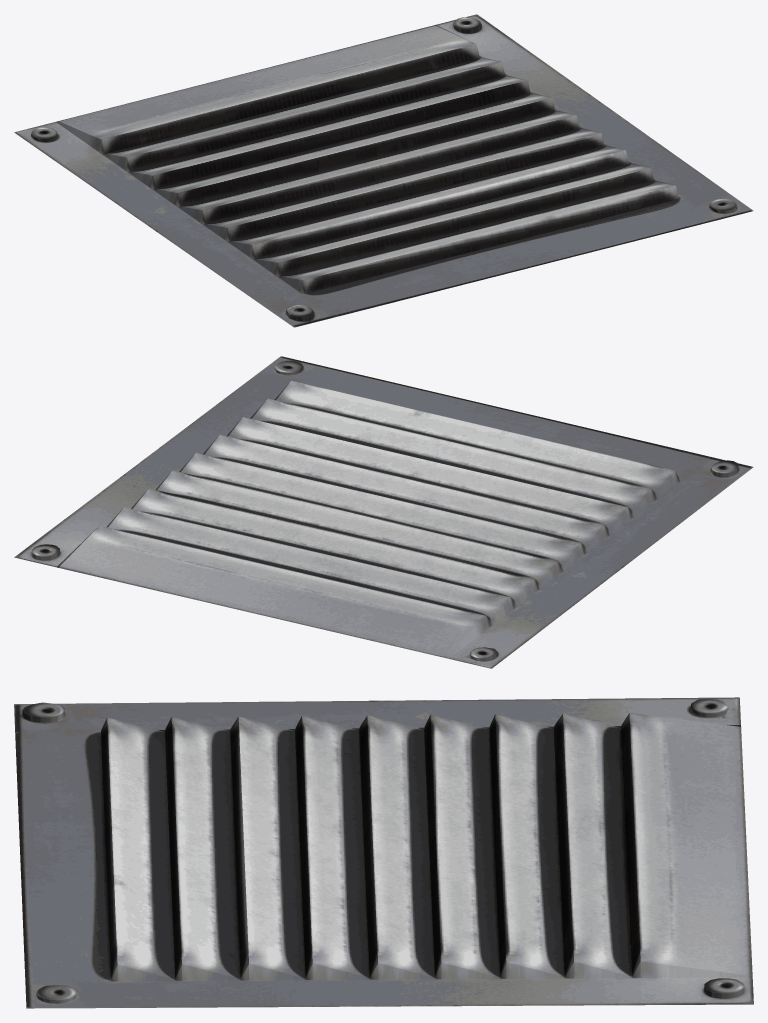
File: Aeration.glb
The picture shows the model from 3 angles, top to bottom: view 1: azimuth 30°, elevation 25°; view 2: azimuth 150°, elevation 25°; view 3: azimuth 270°, elevation 25°; orthographic projection. The views are drawn at different scales.
Parts seen in each view (by area): view 1: Aeration; view 2: Aeration; view 3: Aeration.
Boxes of the visible parts, <box> form: Aeration: <box>14,14,753,327</box>; Aeration: <box>14,356,753,668</box>; Aeration: <box>14,697,753,1008</box>.
Bounding box in the file's own units: 0.7342 × 0.0166 × 0.7381.
Materials: 1 (1 with a texture image).
